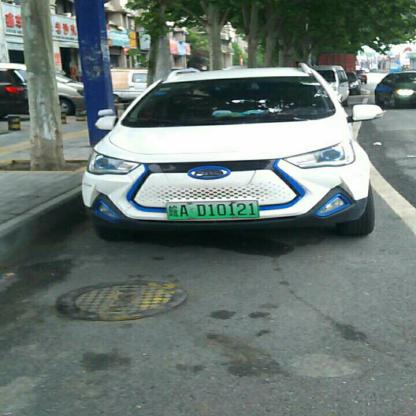lp: (166, 201, 258, 218)
